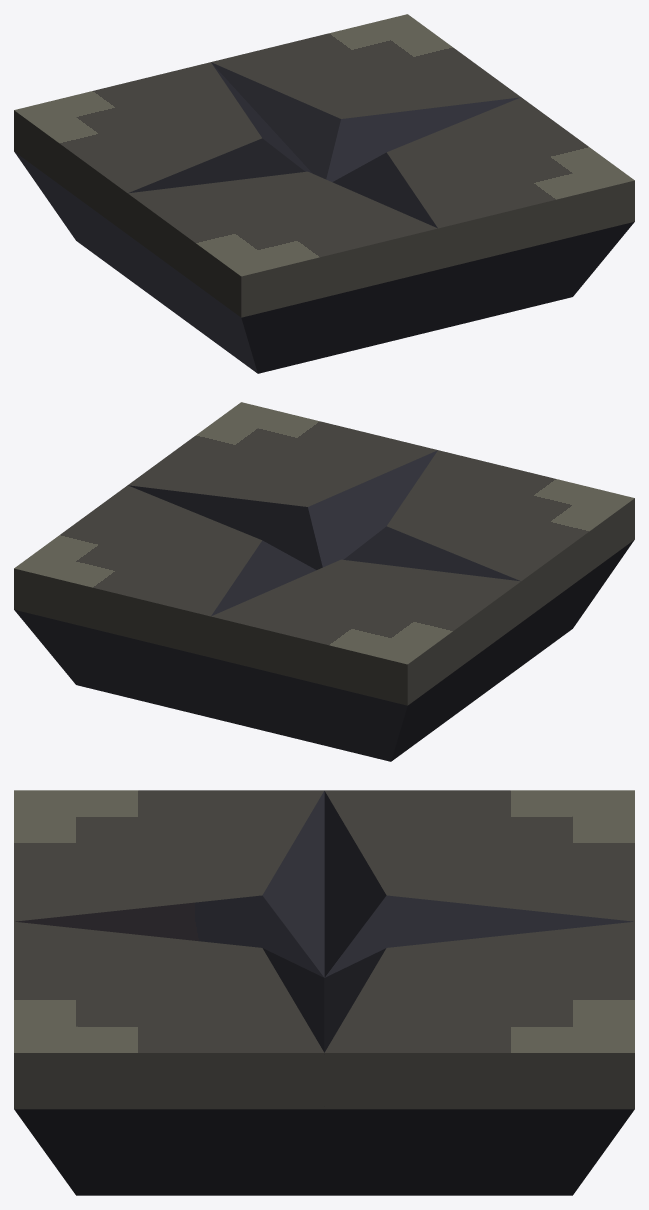
The model's file is screw.fbx.
3 views of the same model, one above another, from view 1: azimuth 30°, elevation 25°; view 2: azimuth 150°, elevation 25°; view 3: azimuth 270°, elevation 25° (orthographic). The views are drawn at different scales.
Parts seen in each view (by area): view 1: cuboid; view 2: cuboid; view 3: cuboid.
Part boxes in pixels (x1,y1,x2,y2): cuboid: (14, 14, 634, 373); cuboid: (14, 402, 634, 761); cuboid: (14, 790, 634, 1195).
Size of the model in its own units: 62.5 by 18.75 by 62.5.
Materials: 1 (1 with a texture image).
